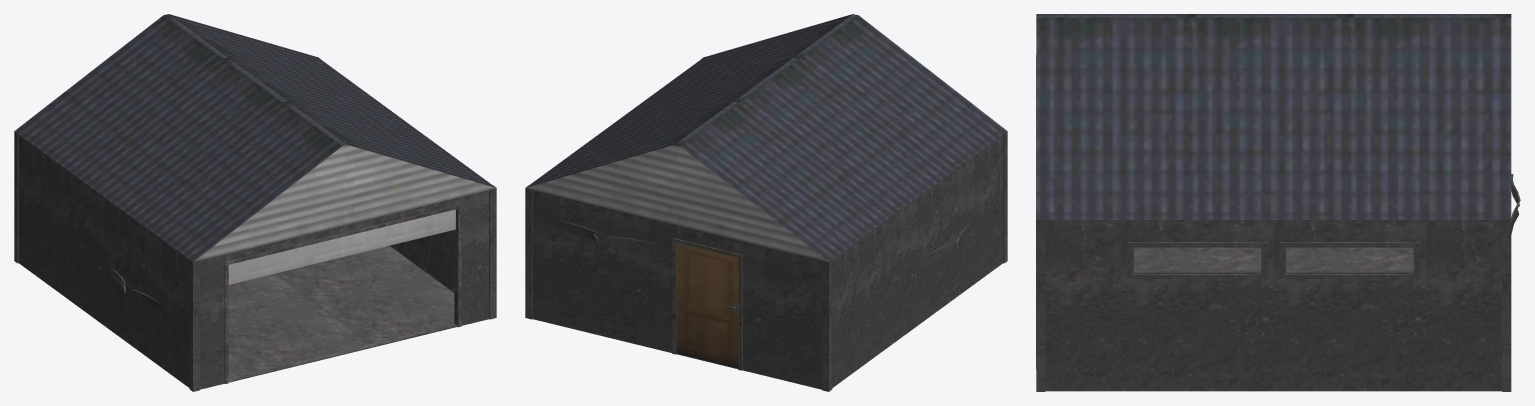
The picture shows the model from 3 angles, left to right: view 1: azimuth 30°, elevation 25°; view 2: azimuth 150°, elevation 25°; view 3: azimuth 270°, elevation 25°; orthographic projection. The views are drawn at different scales.
Parts seen in each view (by area): view 1: Plane_499, Garage2, Cube_038; view 2: Plane_499, Garage2, Cube_1803; view 3: Plane_499, Garage2.
Boxes of the visible parts, box(x1,y1,x2,y2) form: Plane_499: box(15, 14, 495, 261); Garage2: box(14, 57, 496, 391); Cube_038: box(228, 209, 455, 284); Plane_499: box(525, 14, 1006, 261); Garage2: box(525, 57, 1007, 391); Cube_1803: box(676, 242, 738, 368); Plane_499: box(1036, 14, 1511, 219); Garage2: box(1036, 55, 1520, 391).
Bounding box in the file's own units: 751 × 483 × 764.
Materials: 2 (2 with a texture image).
